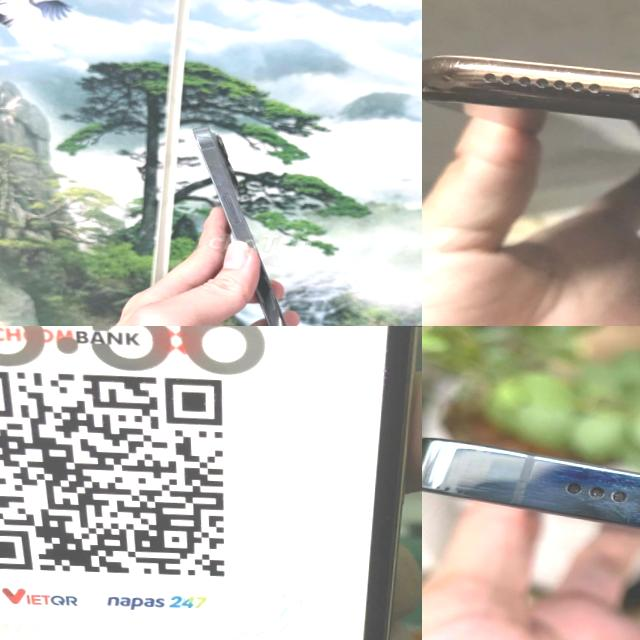scratch: (423, 53, 640, 139), (480, 451, 640, 564)
